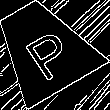P_NW: (12, 17, 75, 79)
